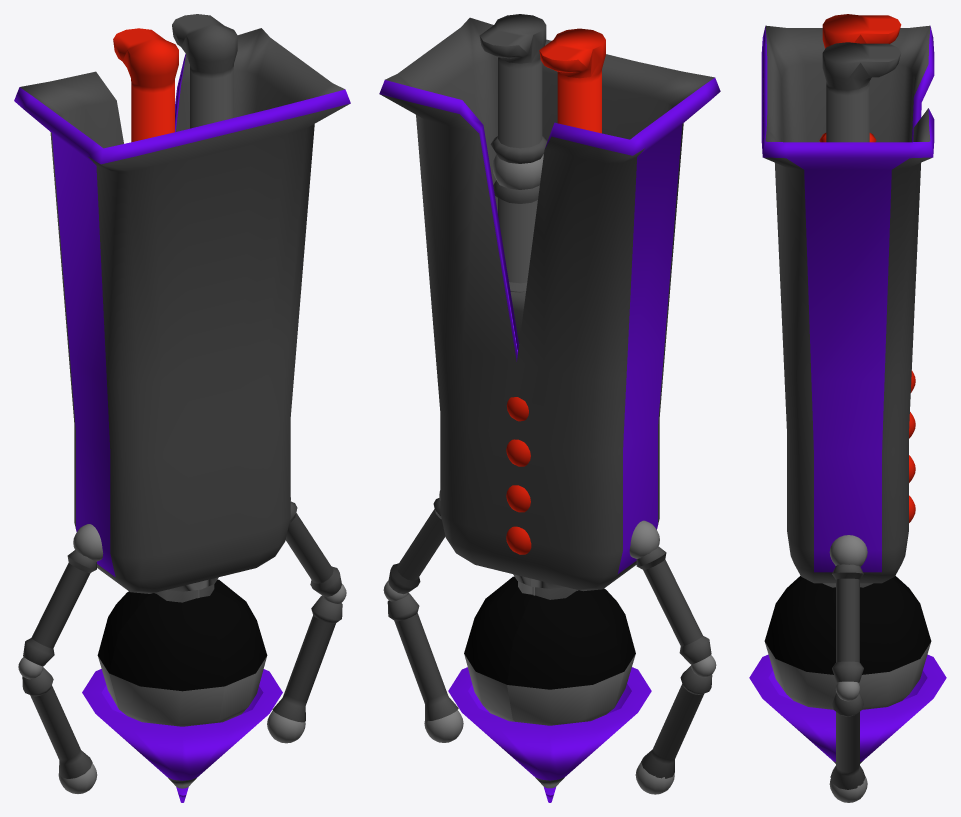
Rendered from CharacterMagicLowPoly.fbx.
The picture shows the model from 3 angles, left to right: view 1: azimuth 30°, elevation 25°; view 2: azimuth 150°, elevation 25°; view 3: azimuth 270°, elevation 25°; orthographic projection. The views are drawn at different scales.
Visible parts, largest first — view 1: Cube.001, Cube.005, Cylinder.020, Cylinder.015, Cylinder.019, Cylinder.008, Cylinder.012, Cylinder.013, Cylinder.007, Cube.004, Sphere.003, Sphere.019 (+1 smaller); view 2: Cube.001, Cube.005, Cylinder.020, Cylinder.015, Cylinder.019, Cylinder.008, Cylinder.014, Cylinder.012, Cylinder.013, Cylinder.007, Sphere.007, Sphere.003 (+3 smaller); view 3: Cube.001, Cube.005, Cylinder.020, Cylinder.015, Cylinder.007, Cylinder.008, Cylinder.019, Sphere.004, Sphere.003, Sphere.
Boxes of the visible parts, box(x1,y1,x2,y2) form: Cube.001: box(14, 28, 350, 593); Cube.005: box(97, 579, 267, 726); Cylinder.020: box(82, 669, 282, 802); Cylinder.015: box(172, 14, 237, 128); Cylinder.019: box(113, 28, 178, 142); Cylinder.008: box(272, 596, 342, 722); Cylinder.012: box(23, 550, 96, 666); Cylinder.013: box(22, 667, 92, 778); Cylinder.007: box(285, 501, 341, 596); Cube.004: box(155, 577, 218, 602); Sphere.003: box(267, 711, 305, 743); Sphere.019: box(73, 524, 103, 561); Cube.001: box(379, 17, 720, 591); Cube.005: box(464, 576, 635, 725); Cylinder.020: box(448, 667, 651, 802); Cylinder.015: box(479, 14, 547, 163); Cylinder.019: box(539, 28, 605, 133); Cylinder.008: box(387, 593, 458, 721); Cylinder.014: box(493, 180, 539, 292); Cylinder.012: box(636, 546, 711, 664); Cylinder.013: box(641, 666, 712, 778); Cylinder.007: box(388, 497, 445, 594); Sphere.007: box(492, 154, 543, 189); Sphere.003: box(424, 710, 463, 742); Cube.001: box(761, 25, 934, 583); Cube.005: box(764, 576, 931, 709); Cylinder.020: box(749, 654, 946, 763); Cylinder.015: box(822, 42, 900, 142); Cylinder.007: box(832, 564, 863, 682); Cylinder.008: box(830, 693, 865, 789); Cylinder.019: box(819, 14, 901, 142); Sphere.004: box(829, 535, 867, 566); Sphere.003: box(829, 777, 867, 802); Sphere: box(835, 681, 860, 701).
Bounding box in the file's own units: 442 × 988 × 237.
